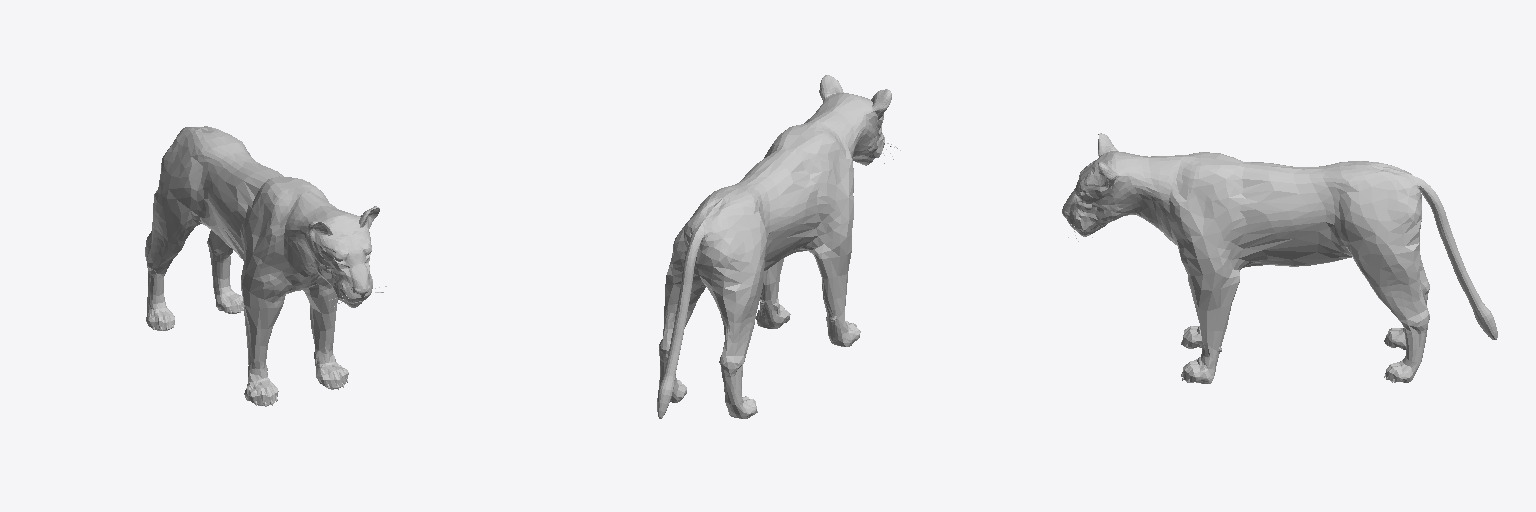
The model's file is LION_F.OBJ.
The picture shows the model from 3 angles: view 1: azimuth 30°, elevation 25°; view 2: azimuth 150°, elevation 25°; view 3: azimuth 270°, elevation 25°; orthographic projection.
Parts seen in each view (by area): view 1: lns_body; view 2: lns_body; view 3: lns_body.
Boxes of the visible parts, <box> form: lns_body: <box>145,126,379,406</box>; lns_body: <box>657,75,891,418</box>; lns_body: <box>1062,133,1497,383</box>.
Size of the model in its own units: 0.5837 by 1.21 by 2.22.